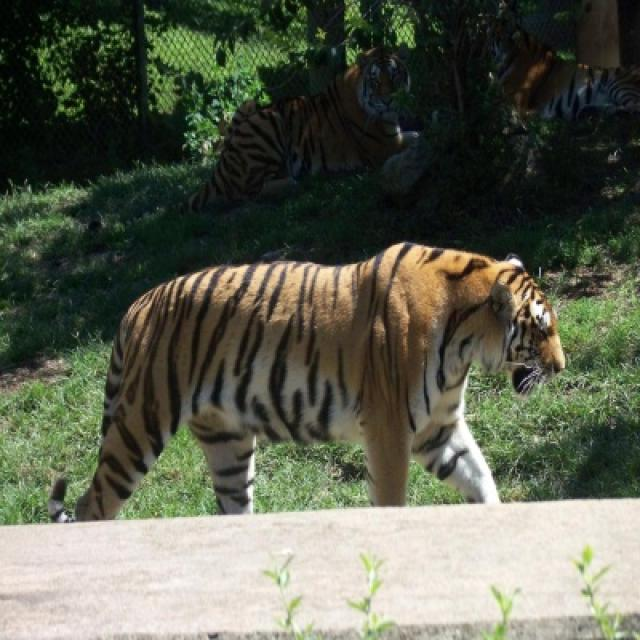Tiger: (67, 241, 565, 521)
